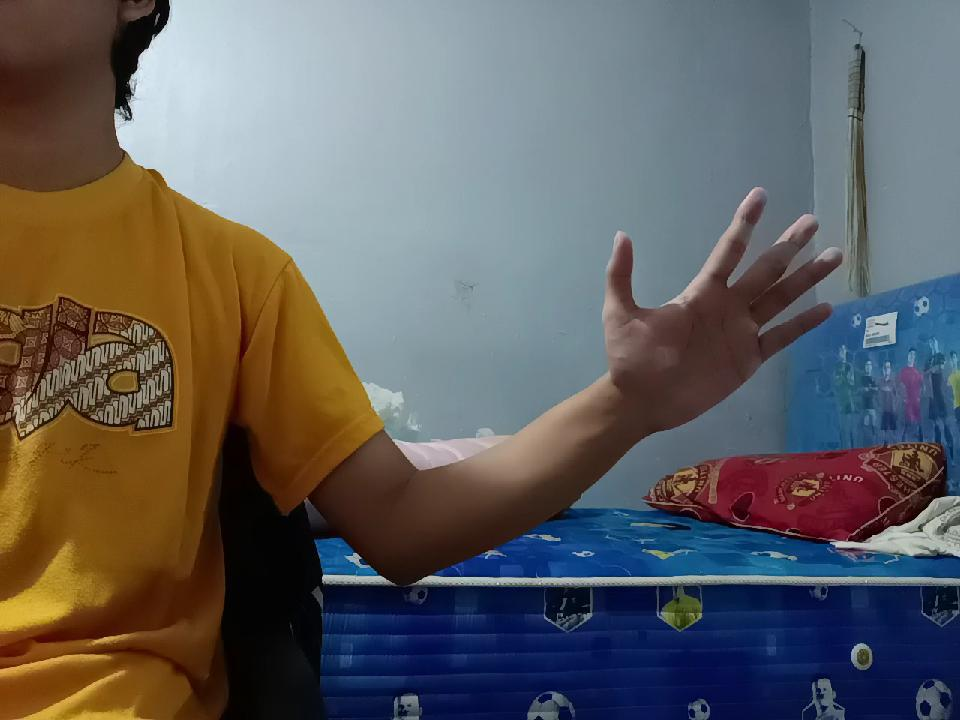paper: (582, 197, 844, 415)
